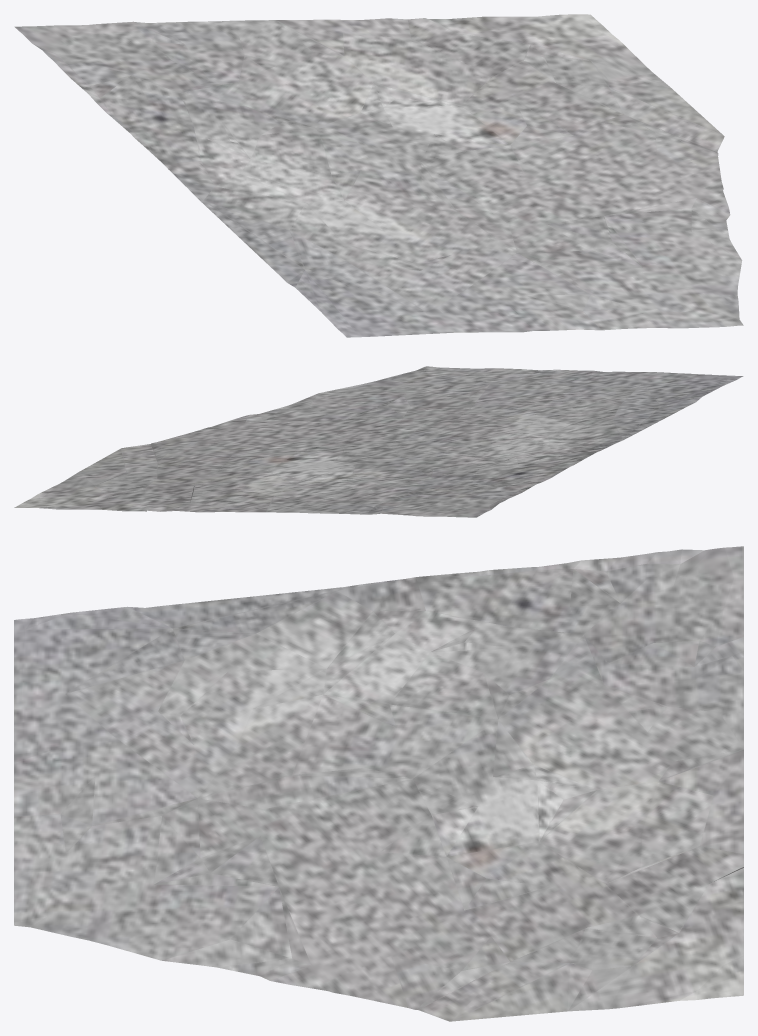
3 views of the same model, one above another, from view 1: azimuth 30°, elevation 25°; view 2: azimuth 150°, elevation 25°; view 3: azimuth 270°, elevation 25° (orthographic). The views are drawn at different scales.
Bounding box in the file's own units: 1.67 × 0.4229 × 1.67.
Materials: 3 (3 with a texture image).
